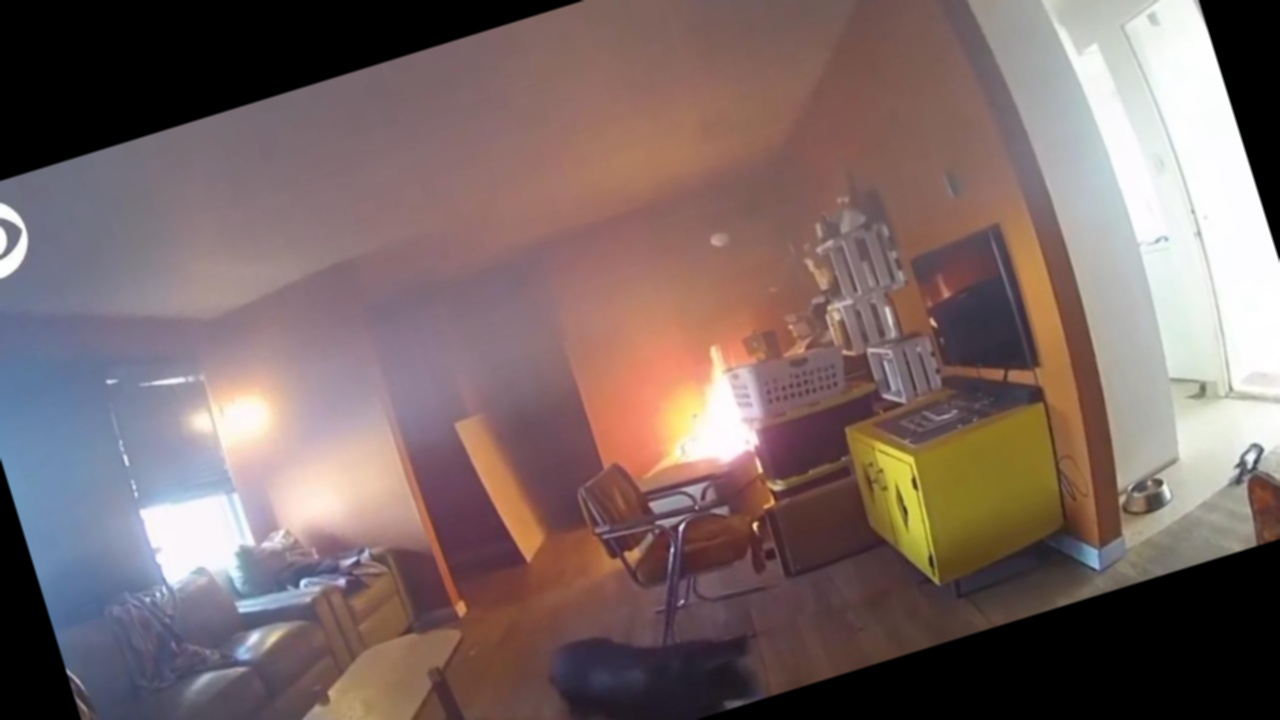fire: (640, 354, 778, 504)
